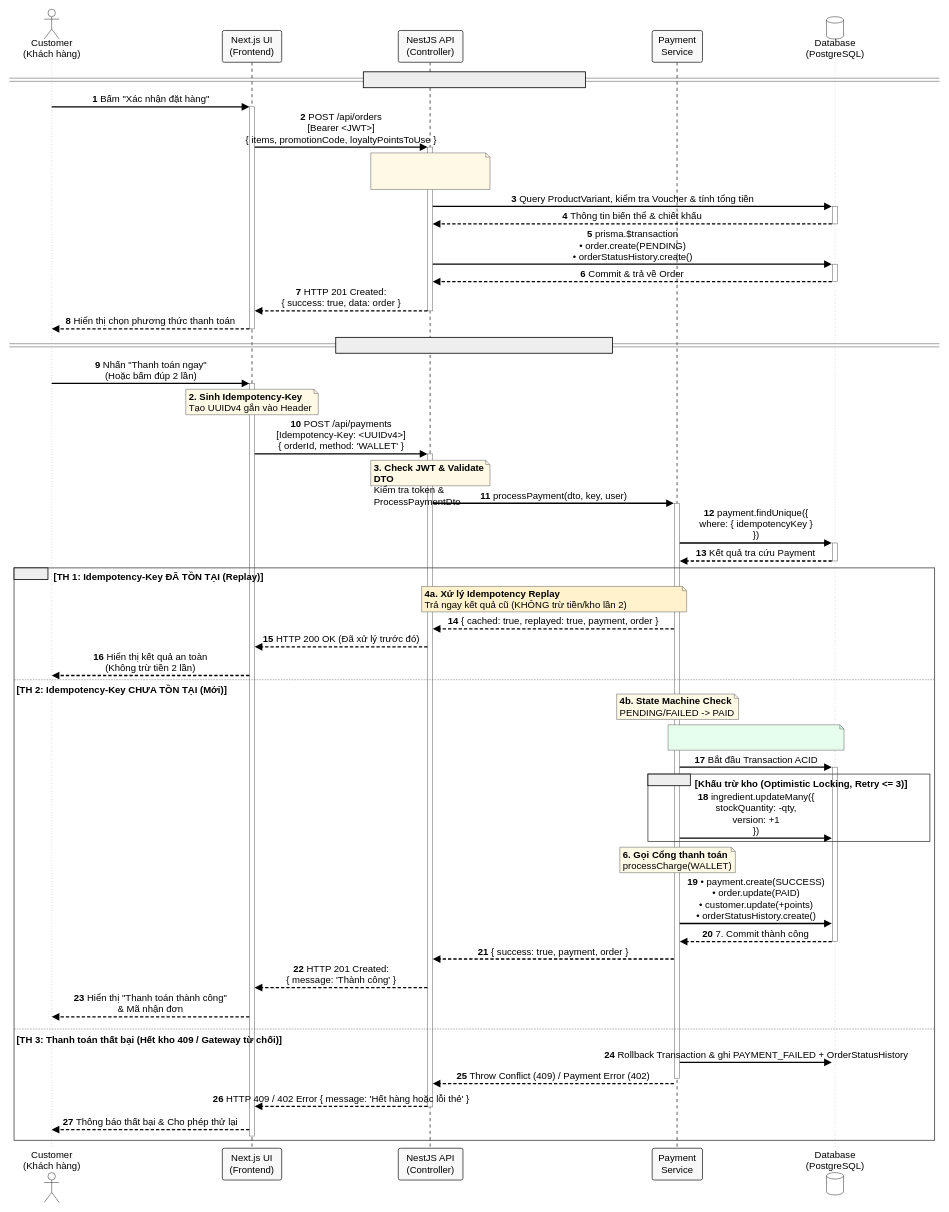
This 949x1212 diagram has some shape labels left out. Here are the shapes that lost their labels. From the top down, the centre of each, then its label:
point 474,79: PHẦN 1: KHỞI TẠO ĐƠN HÀNG (PENDING)
point 430,170: 1. Check JWT & Validate DTO Xác thực Token, lấy user.profileId & DTO
point 474,345: PHẦN 2: XÁC THỰC THANH TOÁN & IDEMPOTENCY
point 30,573: alt
point 756,737: 5. DB Transaction ACID prisma.$transaction(...)
point 668,779: loop
